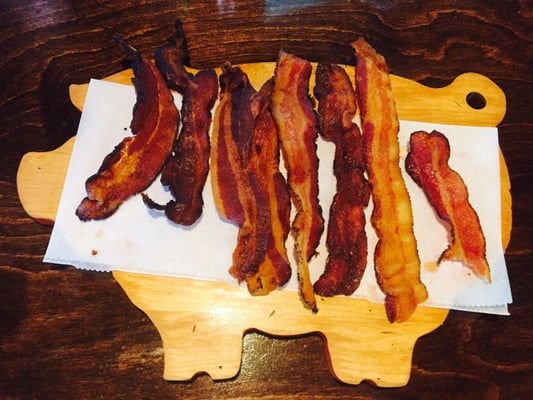soup: (202, 37, 426, 320)
